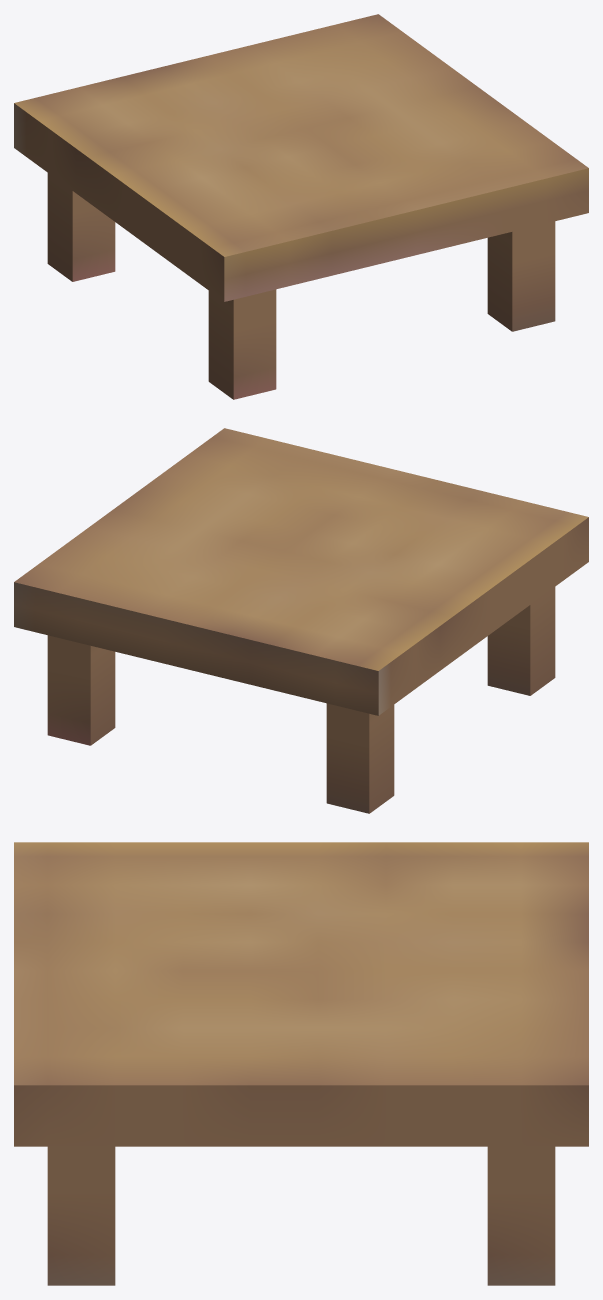
The model's file is KiddieTableBrown_00.fbx.
3 views of the same model, one above another, from view 1: azimuth 30°, elevation 25°; view 2: azimuth 150°, elevation 25°; view 3: azimuth 270°, elevation 25° (orthographic). The views are drawn at different scales.
Visible parts, largest first — view 1: KiddieTableBrown_00; view 2: KiddieTableBrown_00; view 3: KiddieTableBrown_00.
Boxes of the visible parts, <box> form: KiddieTableBrown_00: <box>14,14,588,399</box>; KiddieTableBrown_00: <box>14,428,588,813</box>; KiddieTableBrown_00: <box>14,842,588,1285</box>.
Size of the model in its own units: 85 by 85 by 35.
1 material, 1 textured.
